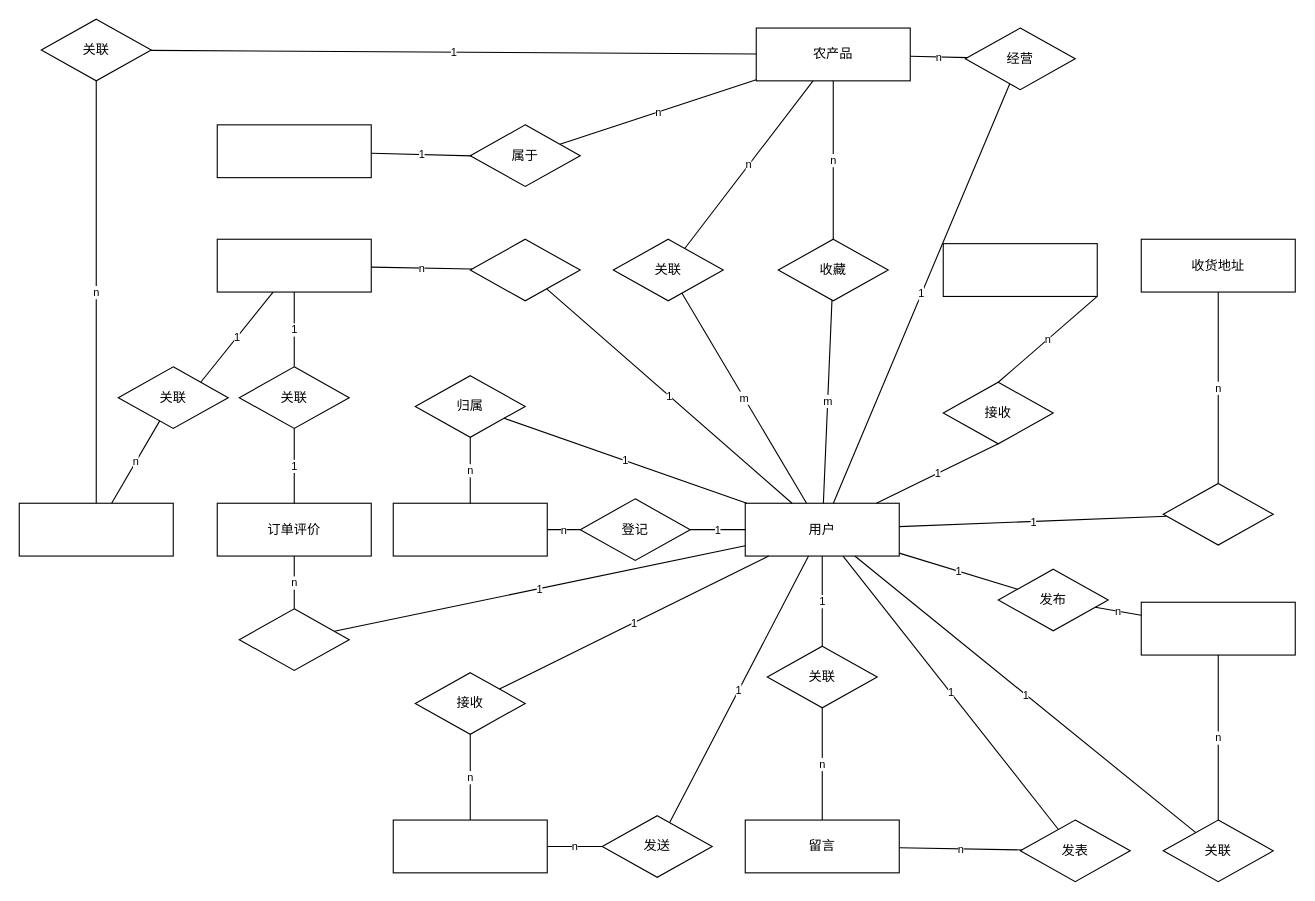
This 1315x901 diagram has some shape labels left out. The shapes that lost their labels are listed below. From the top down, each one's centre as x and y in pixels, then its label:
(x=293, y=151): 分类
(x=293, y=265): 订单
(x=524, y=269): 提交订单
(x=1019, y=269): 消息
(x=95, y=529): 订单明细
(x=469, y=529): 账户流水
(x=1217, y=513): 提交收货地址
(x=293, y=639): 提交评价
(x=1217, y=628): 农产活动
(x=469, y=846): 私信
